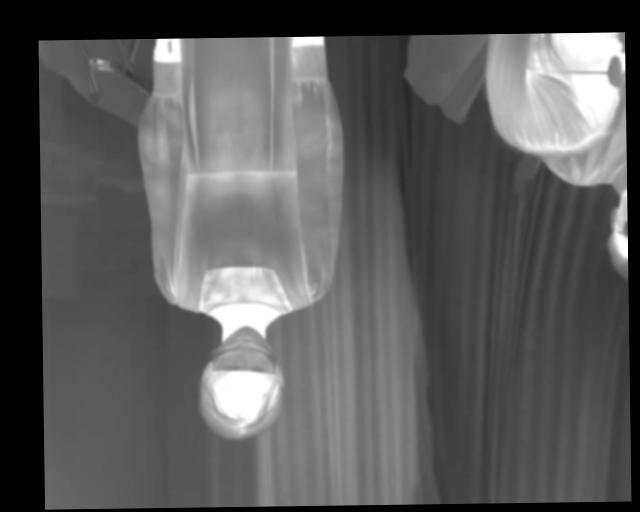face: (194, 323, 286, 441)
